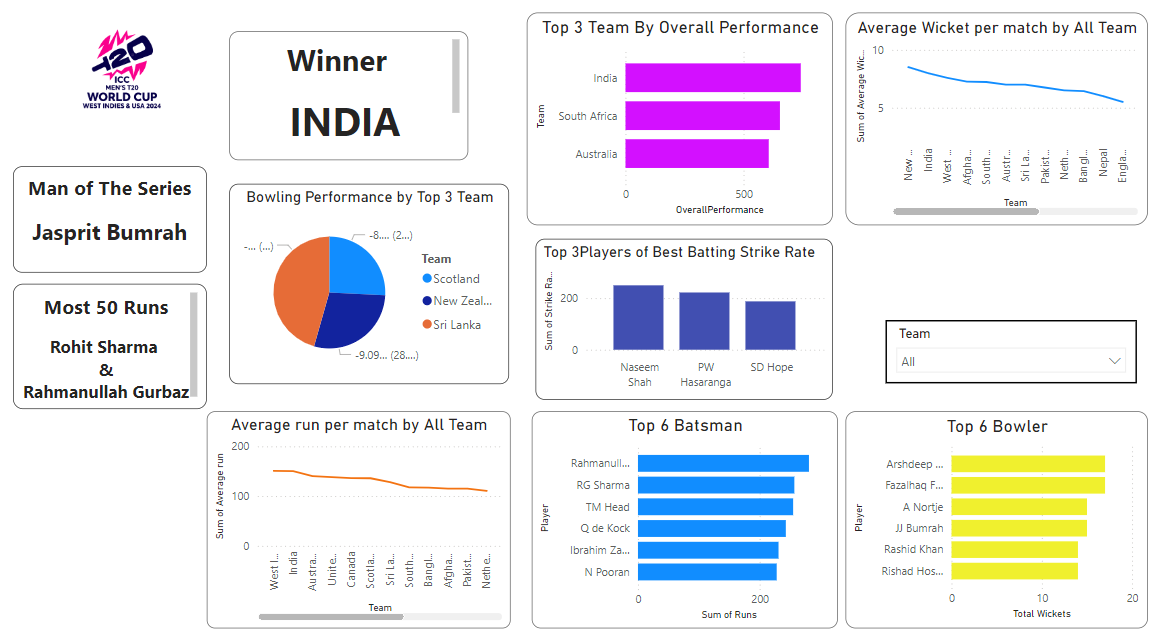

Layout of this report page (visuals, bound fields, positions):
{"tool":"powerbi","page":{"name":"Page 1","canvas":[1280,720],"ordinal":0},"visuals":[{"type":"barChart","title":"Top 6 Batsman","fields":{"Y":["batting_stats_for_icc_mens_t20_ (2).Runs"],"Category":["batting_stats_for_icc_mens_t20_ (2).Player"]},"box":[591.4,462.4,336.2,238.8],"z":0},{"type":"barChart","title":"Top 6 Bowler","fields":{"Y":["bowling_stats_for_icc_mens_t20_.Wickets"],"Category":["bowling_stats_for_icc_mens_t20_.Player"]},"box":[935.9,462.4,332.1,238.8],"z":1000},{"type":"barChart","title":"Top 3 Team By Overall Performance","fields":{"Category":["batting_stats_for_icc_mens_t20_ (2).Team"],"Y":["batting_stats_for_icc_mens_t20_ (2).OverallPerformance"]},"box":[585.9,24.7,336.2,233.3],"z":2000},{"type":"lineChart","title":"Average run per match by All Team","fields":{"Category":["match_results_for_icc_mens_t20_.Team"],"Y":["match_results_for_icc_mens_t20_.Average run"]},"box":[234.6,462.4,333.4,238.8],"z":3000},{"type":"lineChart","title":" Average Wicket per match by All Team","fields":{"Category":["match_results_for_icc_mens_t20_.Team"],"Y":["match_results_for_icc_mens_t20_.Average Wicket"]},"box":[935.9,24.7,332.1,233.3],"z":4000},{"type":"textbox","box":[259.3,45.3,262.1,141.3],"z":5000},{"type":"slicer","fields":{"Values":["batting_stats_for_icc_mens_t20_ (2).Team"]},"box":[979.8,362.3,275.8,70],"z":6000},{"type":"image","box":[0,24.7,282.7,124.9],"z":7000},{"type":"columnChart","title":"Top 3Players of  Best Batting  Strike Rate","fields":{"Category":["batting_stats_for_icc_mens_t20_ (2).Player"],"Y":["batting_stats_for_icc_mens_t20_ (2).Strike Rate"]},"box":[595.5,273.1,326.6,177],"z":8000},{"type":"textbox","box":[22,193.5,212.7,116.6],"z":9000},{"type":"pieChart","title":"Bowling Performance by Top 3 Team","fields":{"Category":["batting_stats_for_icc_mens_t20_ (2).Team"],"Y":["batting_stats_for_icc_mens_t20_ (2).Bowl_Performance"]},"box":[260,212.9,307.1,220],"z":9001},{"type":"textbox","box":[22,322.5,212.7,137.2],"z":9002}]}

Visuals, with their boxes in screenshot pixels (x1, y1, x2, y2), scaled from the page's 1280x720 canvas onto the 1152x636 screenshot:
"Top 6 Batsman" barChart: detection(532, 408, 835, 619)
"Top 6 Bowler" barChart: detection(842, 408, 1141, 619)
"Top 3 Team By Overall Performance" barChart: detection(527, 22, 830, 228)
"Average run per match by All Team" lineChart: detection(211, 408, 511, 619)
" Average Wicket per match by All Team" lineChart: detection(842, 22, 1141, 228)
textbox: detection(233, 40, 469, 165)
slicer - batting_stats_for_icc_mens_t20_ (2).Team: detection(882, 320, 1130, 382)
image: detection(0, 22, 254, 132)
"Top 3Players of  Best Batting  Strike Rate" columnChart: detection(536, 241, 830, 398)
textbox: detection(20, 171, 211, 274)
"Bowling Performance by Top 3 Team" pieChart: detection(234, 188, 510, 382)
textbox: detection(20, 285, 211, 406)
